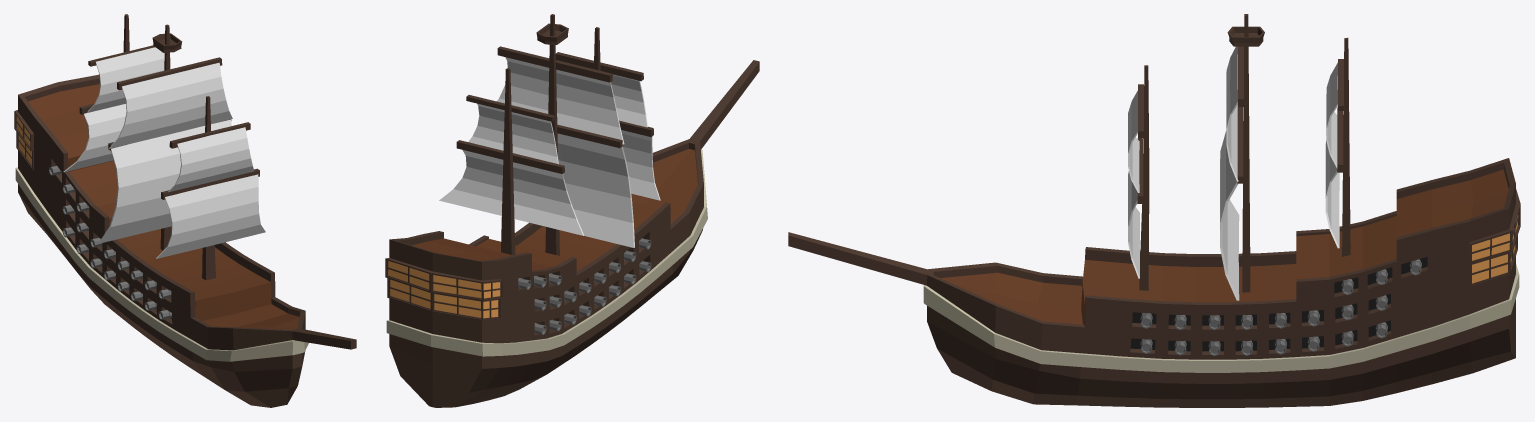
Rendered from Ship_r2.fbx.
3 views of the same model, side by side, from view 1: azimuth 30°, elevation 25°; view 2: azimuth 150°, elevation 25°; view 3: azimuth 270°, elevation 25° (orthographic). The views are drawn at different scales.
Parts seen in each view (by area): view 1: Ship, Flags.004, Flags.003, Flags.002, Flags.001, Flags, Flags.005; view 2: Ship, Flags.003, Flags.005, Flags.004, Flags, Flags.002, Flags.001; view 3: Ship, Flags.003, Flags.004, Flags.005, Flags, Flags.002, Flags.001.
Part boxes in pixels (box(x1,y1,x2,y2)): Ship: box(14, 14, 356, 407); Flags.004: box(109, 62, 232, 148); Flags.003: box(99, 119, 231, 243); Flags.002: box(156, 174, 265, 258); Flags.001: box(168, 127, 254, 192); Flags: box(87, 47, 164, 112); Flags.005: box(63, 104, 126, 172); Ship: box(385, 14, 759, 407); Flags.003: box(557, 133, 634, 247); Flags.005: box(439, 150, 583, 235); Flags.004: box(496, 57, 624, 144); Flags: box(468, 103, 558, 164); Flags.002: box(621, 130, 660, 200); Flags.001: box(611, 74, 647, 127); Ship: box(788, 14, 1520, 407); Flags.003: box(1220, 131, 1239, 300); Flags.004: box(1226, 46, 1238, 181); Flags.005: box(1325, 141, 1339, 248); Flags: box(1326, 62, 1337, 168); Flags.002: box(1128, 171, 1139, 278); Flags.001: box(1128, 90, 1139, 192).
Bounding box in the file's own units: 337 × 719 × 1219.
